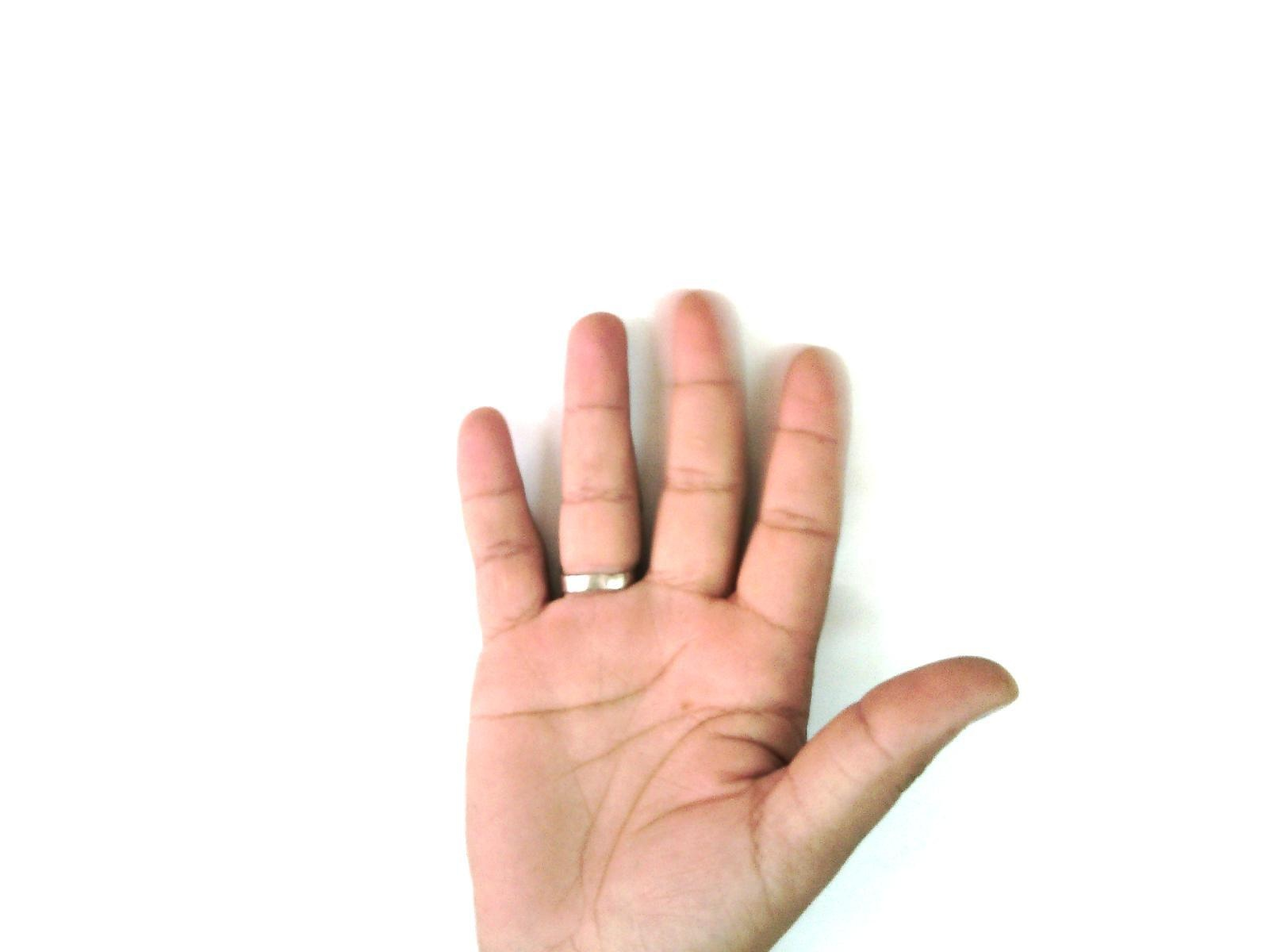open_palm: (452, 288, 1021, 951)
